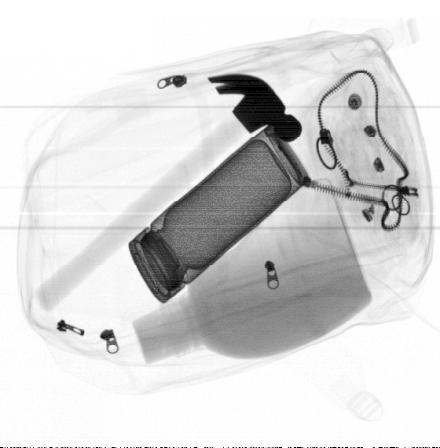Hammer: (37, 74, 304, 314)
